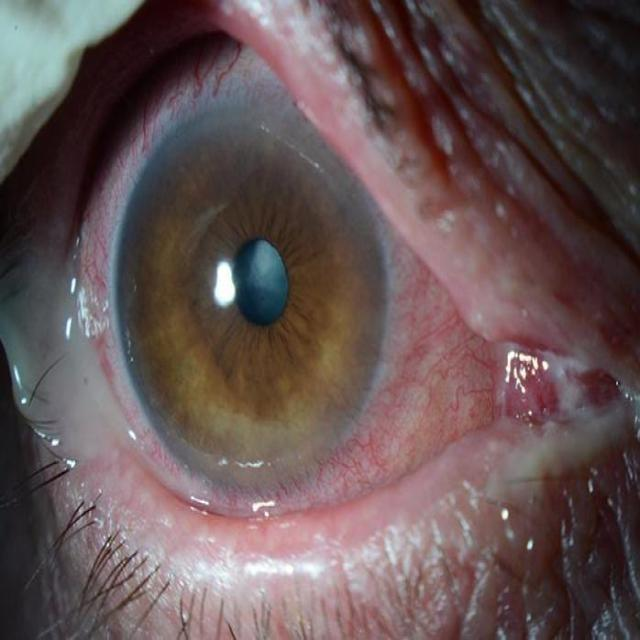Conjunctivitis: (0, 215, 640, 552)
